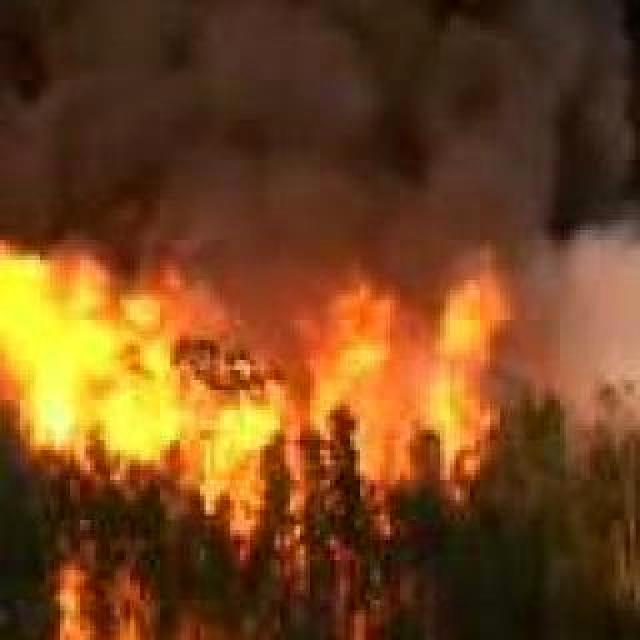fire: (0, 242, 520, 640)
